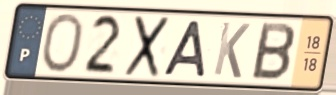2: (82, 12, 125, 79)
A: (160, 18, 208, 79)
B: (248, 20, 297, 84)
K: (210, 19, 252, 81)
O: (38, 11, 86, 75)
X: (121, 13, 173, 80)
